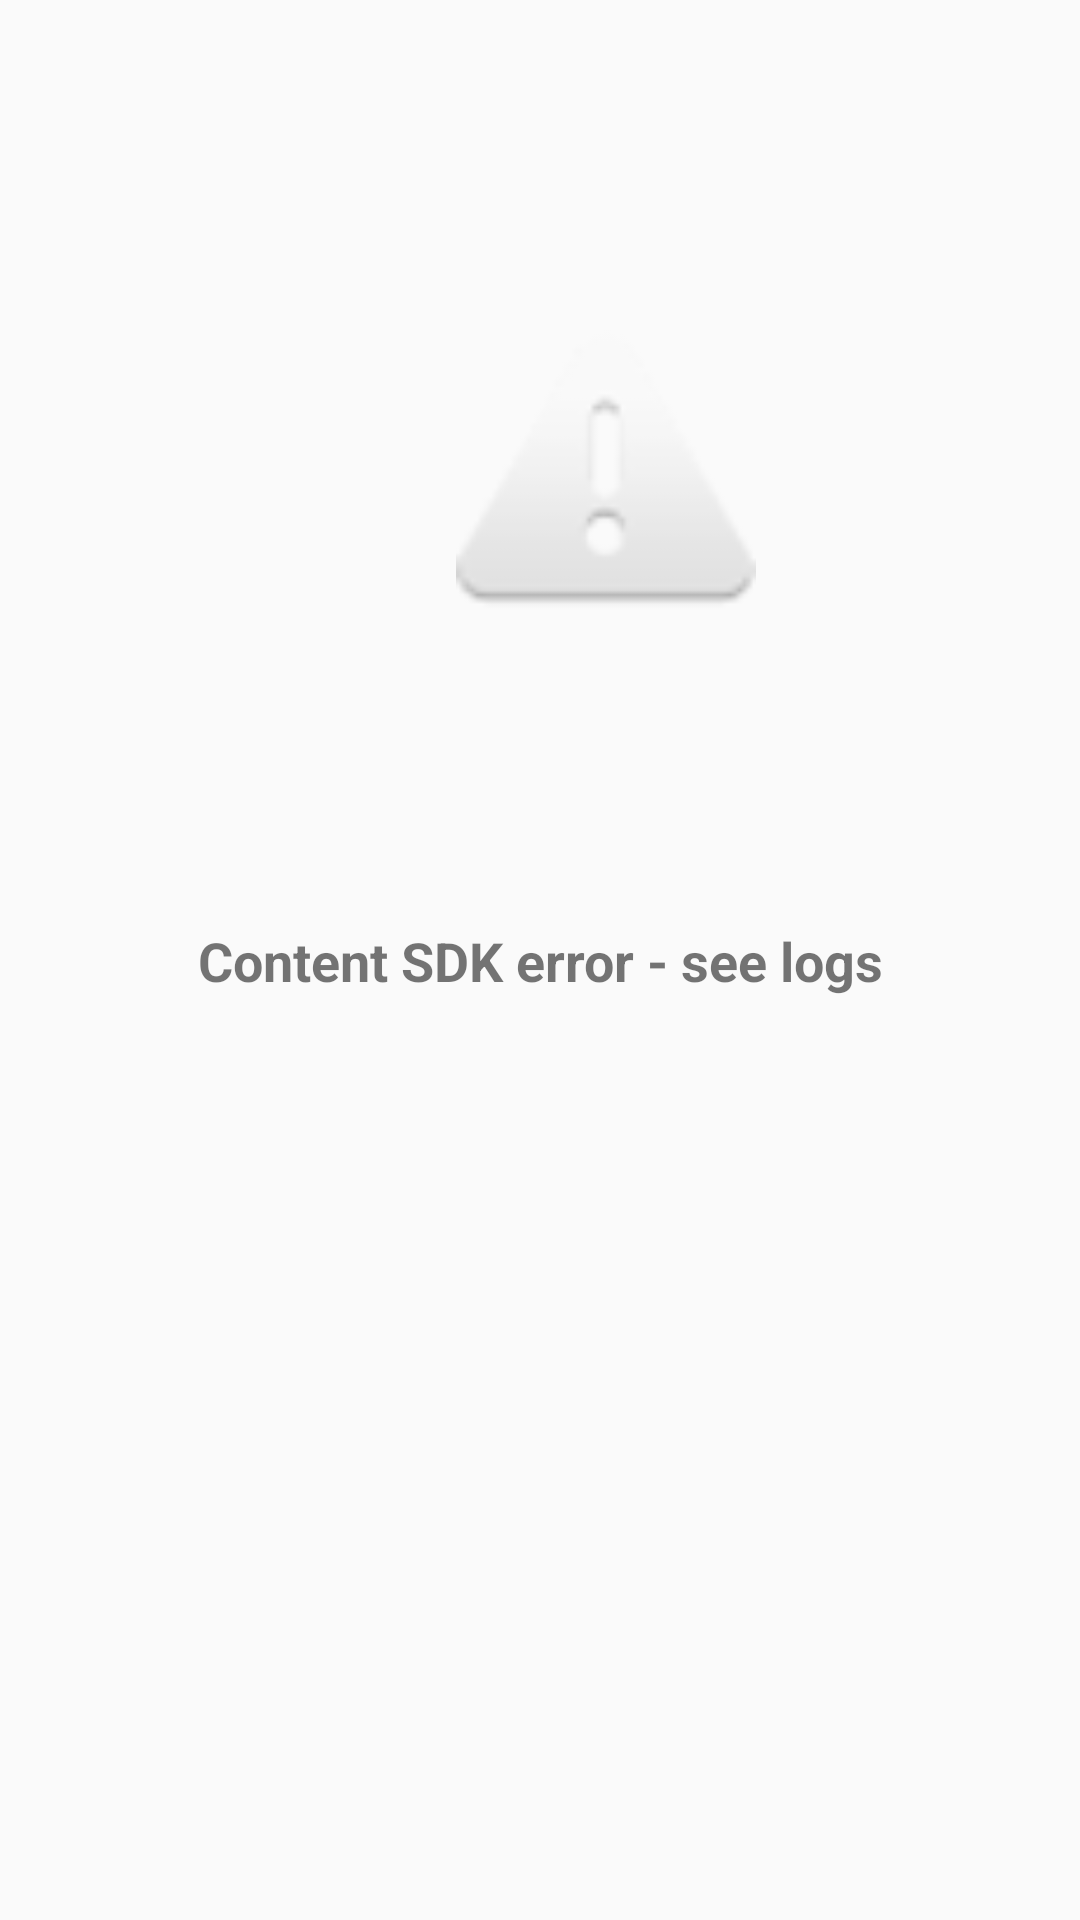

Point at icon controls on the screen. Image size 1080 x 1920, points as [x,y].
alert: [606,501]
